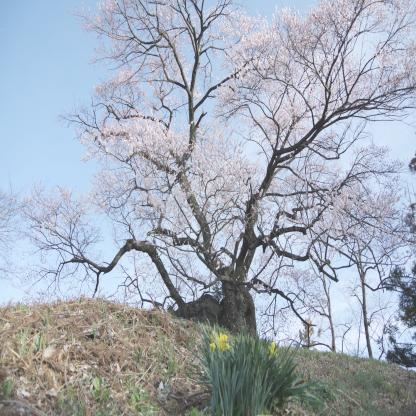EdohiganSakura: (12, 0, 416, 340)
